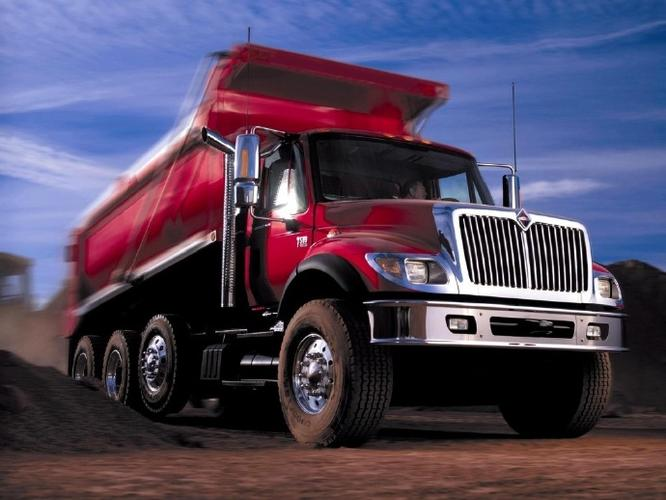卡车: (46, 37, 630, 458)
